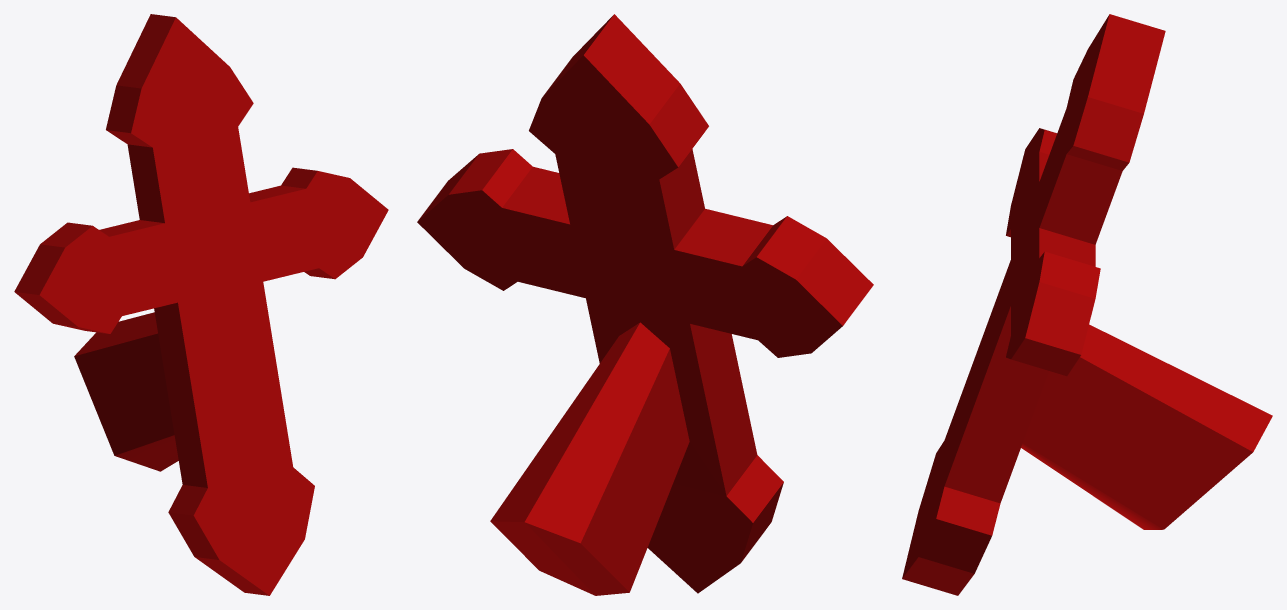
The model's file is Chr_HelmetAttachment_Static_11.fbx.
The picture shows the model from 3 angles, left to right: view 1: azimuth 30°, elevation 25°; view 2: azimuth 150°, elevation 25°; view 3: azimuth 270°, elevation 25°; orthographic projection. The views are drawn at different scales.
Visible parts, largest first — view 1: Chr_HelmetAttachment_11; view 2: Chr_HelmetAttachment_11; view 3: Chr_HelmetAttachment_11.
Boxes of the visible parts, x1=… form: Chr_HelmetAttachment_11: x1=14, y1=14, x2=388, y2=595; Chr_HelmetAttachment_11: x1=417, y1=14, x2=873, y2=595; Chr_HelmetAttachment_11: x1=902, y1=14, x2=1272, y2=595.
Size of the model in its own units: 16.67 by 23.96 by 13.84.
